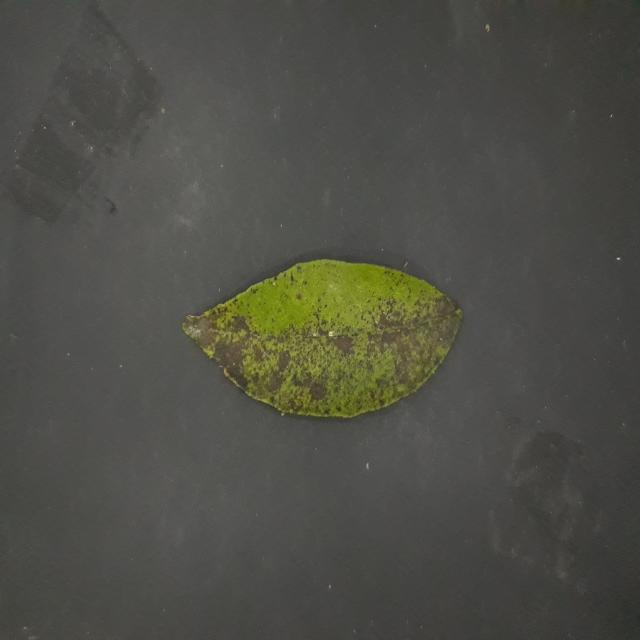greasy_spot: (183, 259, 462, 417)
